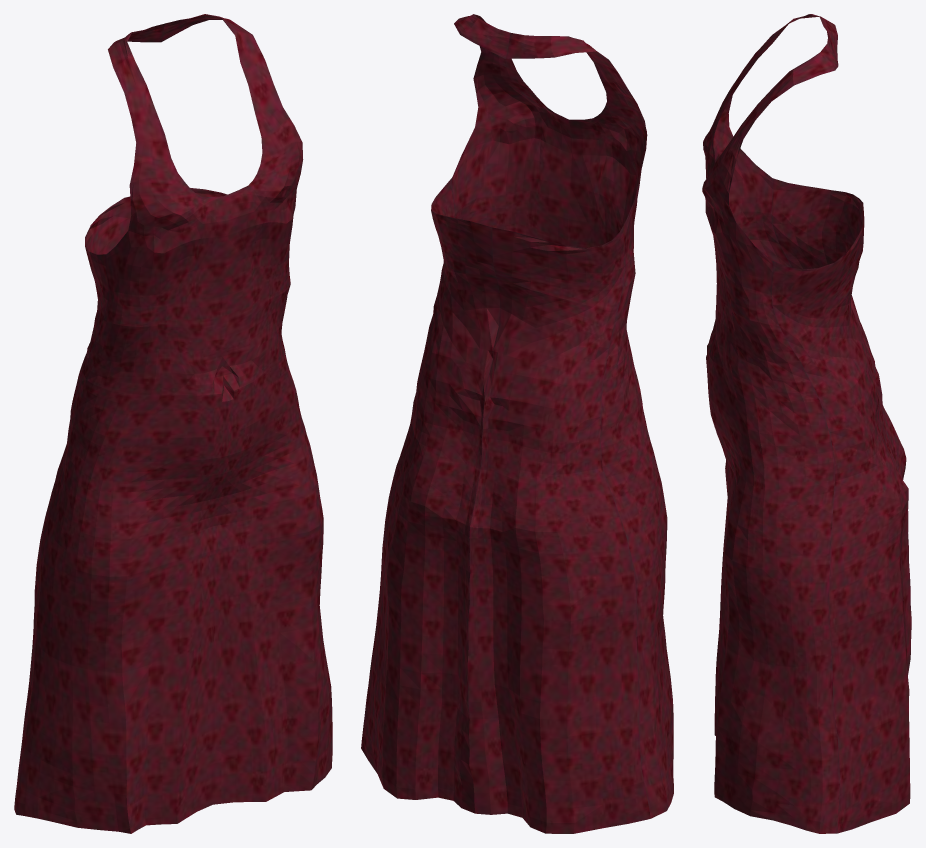
Rendered from mhw_toigo_halter_dress_midi.glb.
3 views of the same model, side by side, from view 1: azimuth 30°, elevation 25°; view 2: azimuth 150°, elevation 25°; view 3: azimuth 270°, elevation 25° (orthographic). The views are drawn at different scales.
Parts seen in each view (by area): view 1: mhw_toigo_halter_dress_midi; view 2: mhw_toigo_halter_dress_midi; view 3: mhw_toigo_halter_dress_midi.
Boxes of the visible parts, bbox=[...] form: mhw_toigo_halter_dress_midi: bbox=[14, 14, 332, 833]; mhw_toigo_halter_dress_midi: bbox=[361, 14, 673, 833]; mhw_toigo_halter_dress_midi: bbox=[702, 14, 911, 833].
Bounding box in the file's own units: 0.5243 × 1.25 × 0.3221.
1 material, 1 textured.
